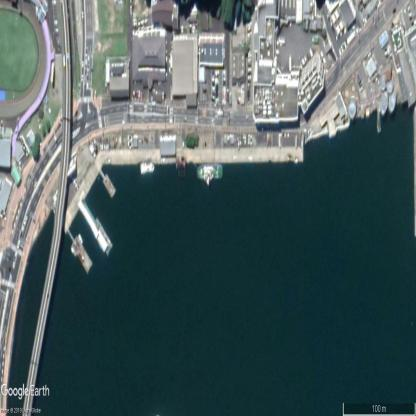ship: (197, 164, 223, 180), (140, 162, 154, 174), (78, 233, 83, 245)
